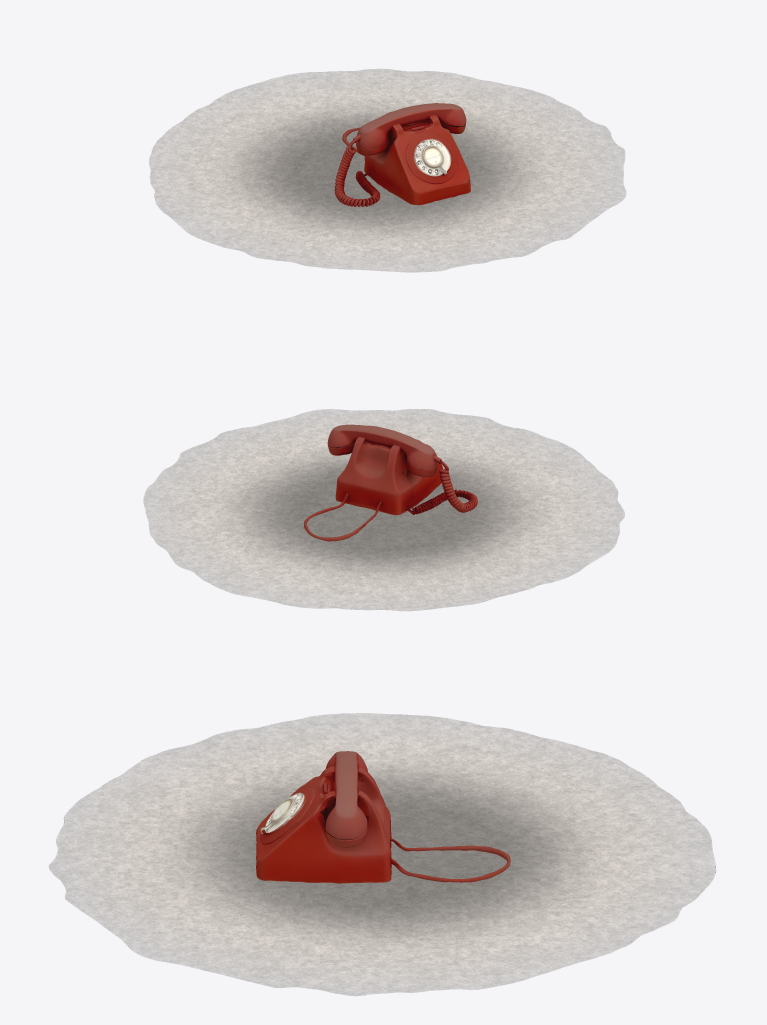
Rendered from telefono-disco.glb.
3 views of the same model, one above another, from view 1: azimuth 30°, elevation 25°; view 2: azimuth 150°, elevation 25°; view 3: azimuth 270°, elevation 25° (orthographic). The views are drawn at different scales.
Visible parts, largest first — view 1: Terreno, Televisor; view 2: Terreno, Televisor; view 3: Terreno, Televisor.
Boxes of the visible parts, x1,y1,x2,y2 form: Terreno: (149,68,626,272); Televisor: (334,103,470,206); Terreno: (143,409,624,611); Televisor: (304,424,477,541); Terreno: (48,713,716,996); Televisor: (256,751,510,883).
Bounding box in the file's own units: 2.98 × 0.4236 × 2.98.
2 materials, 2 textured.
